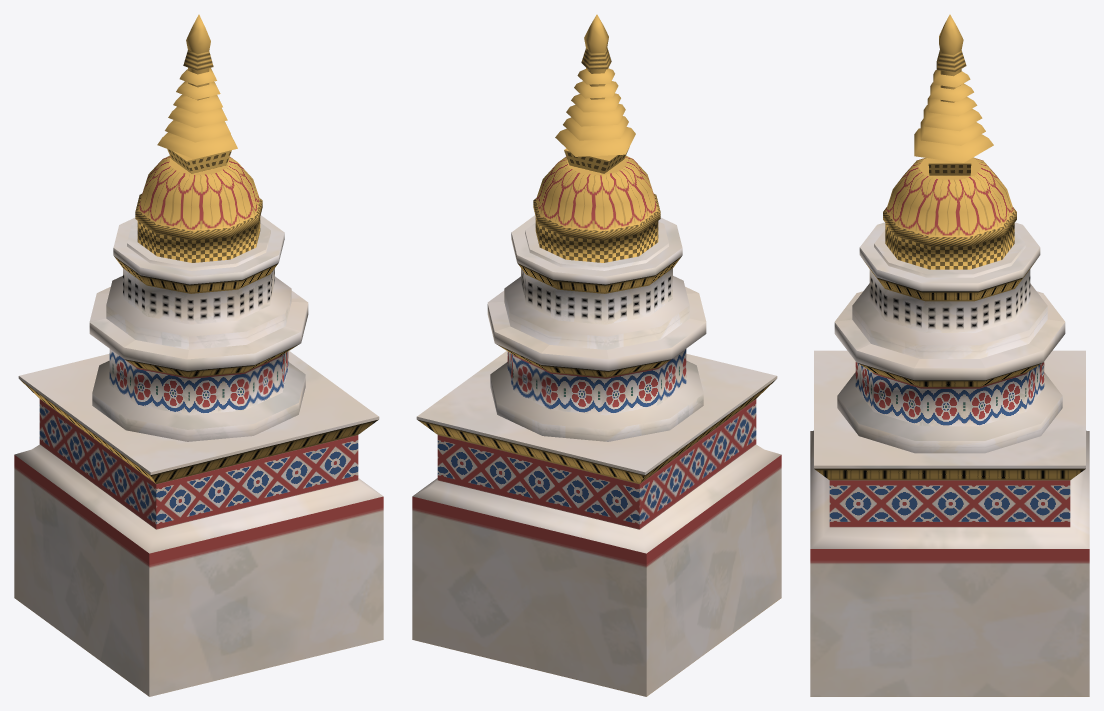
File: maur_shrine.dae
3 views of the same model, side by side, from view 1: azimuth 30°, elevation 25°; view 2: azimuth 150°, elevation 25°; view 3: azimuth 270°, elevation 25° (orthographic). The views are drawn at different scales.
Parts seen in each view (by area): view 1: Cube; view 2: Cube; view 3: Cube.
Boxes of the visible parts, x1,y1,x2,y2 form: Cube: (14, 14, 383, 696); Cube: (412, 14, 781, 696); Cube: (810, 14, 1089, 696).
Size of the model in its own units: 6.5 by 6.5 by 16.03.
